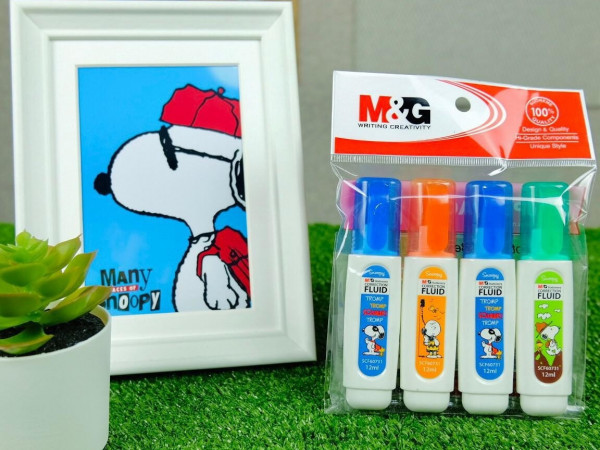Correction_fluid: (339, 172, 400, 412), (516, 179, 577, 417), (459, 176, 516, 421), (399, 178, 458, 414)
